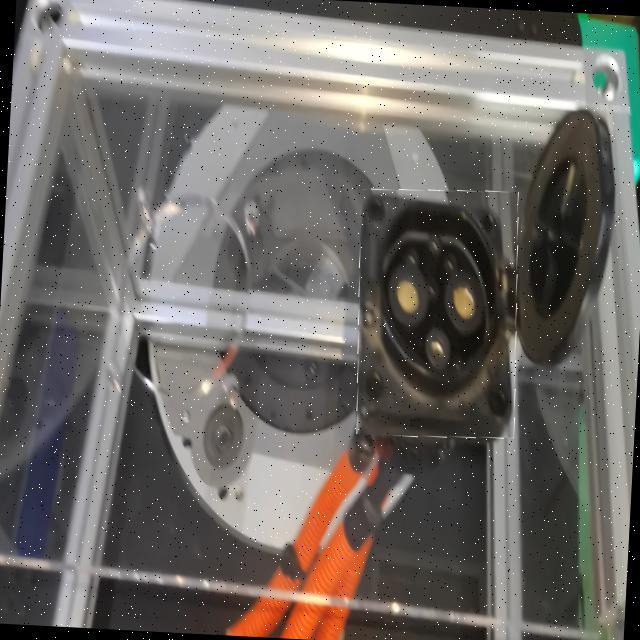GB-T: (363, 190, 516, 460)
